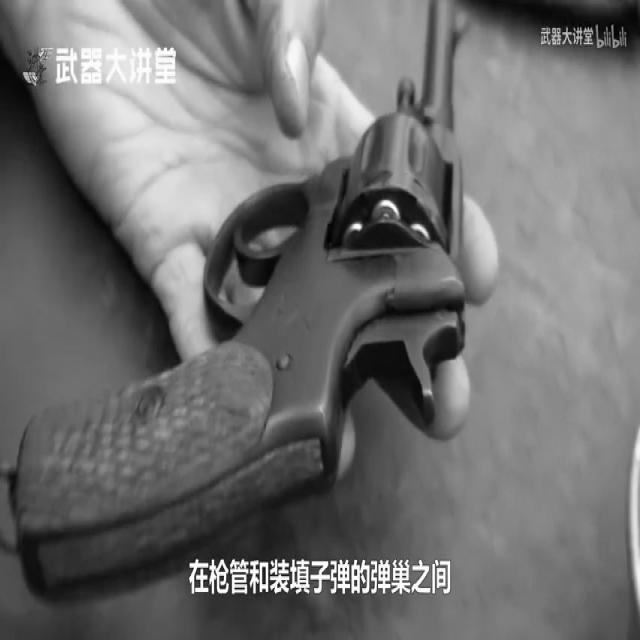Short-Gun: (0, 0, 529, 640)
